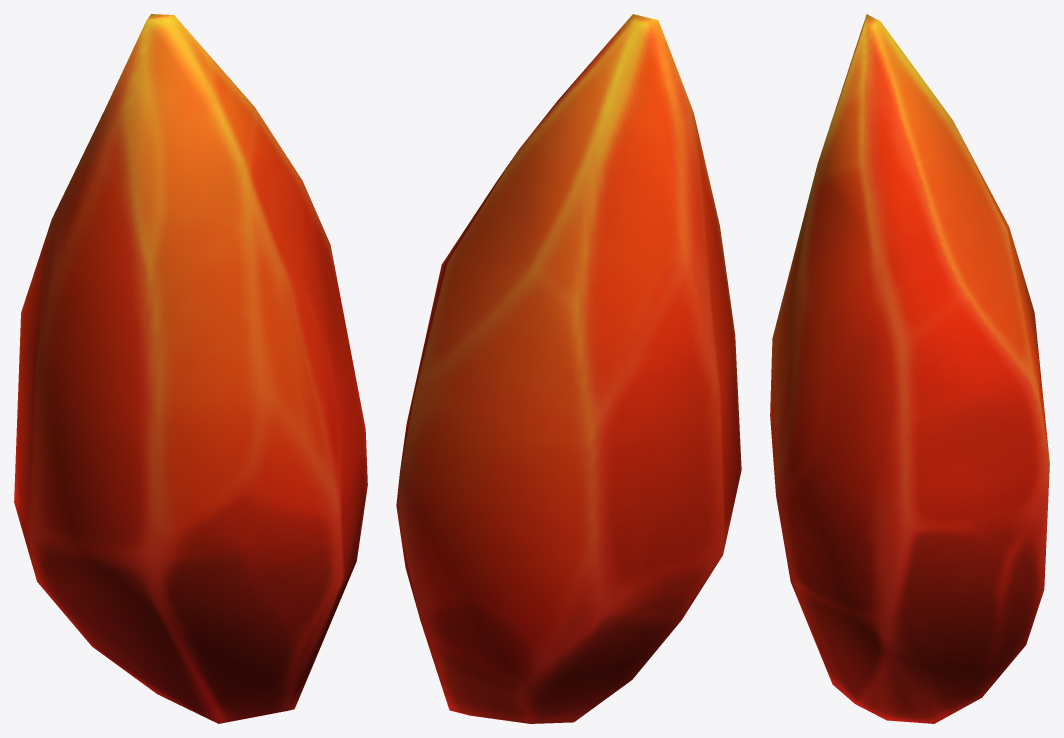
File: SM_Gem_FireCrystal_Piece_001.fbx
3 renders of one model, left to right at view 1: azimuth 30°, elevation 25°; view 2: azimuth 150°, elevation 25°; view 3: azimuth 270°, elevation 25°, orthographic. The views are drawn at different scales.
Visible parts, largest first — view 1: SM_Gem_FireCrystal_Piece_001; view 2: SM_Gem_FireCrystal_Piece_001; view 3: SM_Gem_FireCrystal_Piece_001.
Part boxes in pixels (<box>): SM_Gem_FireCrystal_Piece_001: <box>14,14,367,723</box>; SM_Gem_FireCrystal_Piece_001: <box>396,14,741,723</box>; SM_Gem_FireCrystal_Piece_001: <box>770,14,1049,723</box>.
Bounding box in the file's own units: 10.1 × 21.45 × 8.46.
